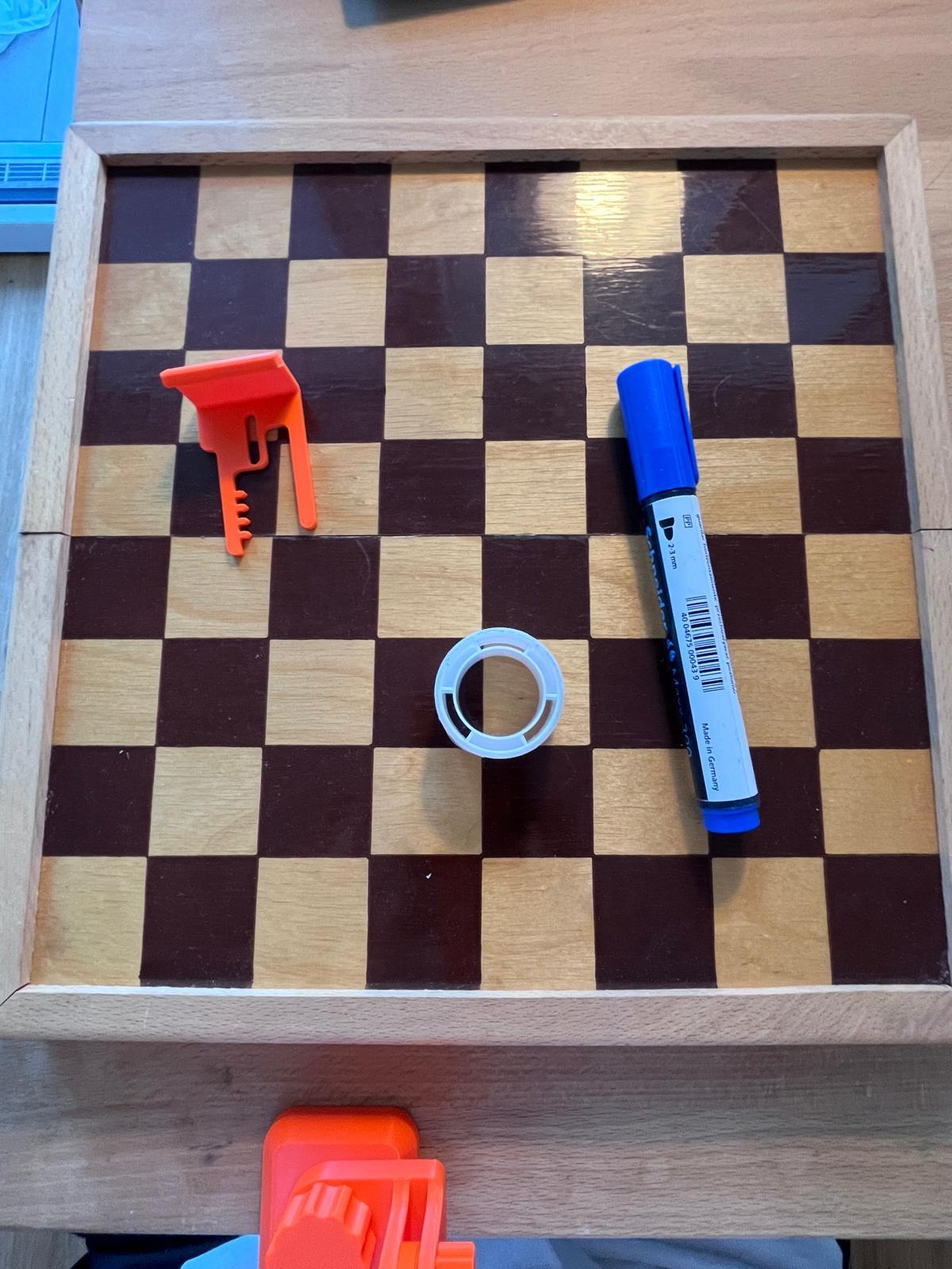clipper: (157, 343, 324, 555)
marker: (614, 357, 770, 833)
tape: (428, 623, 566, 768)
